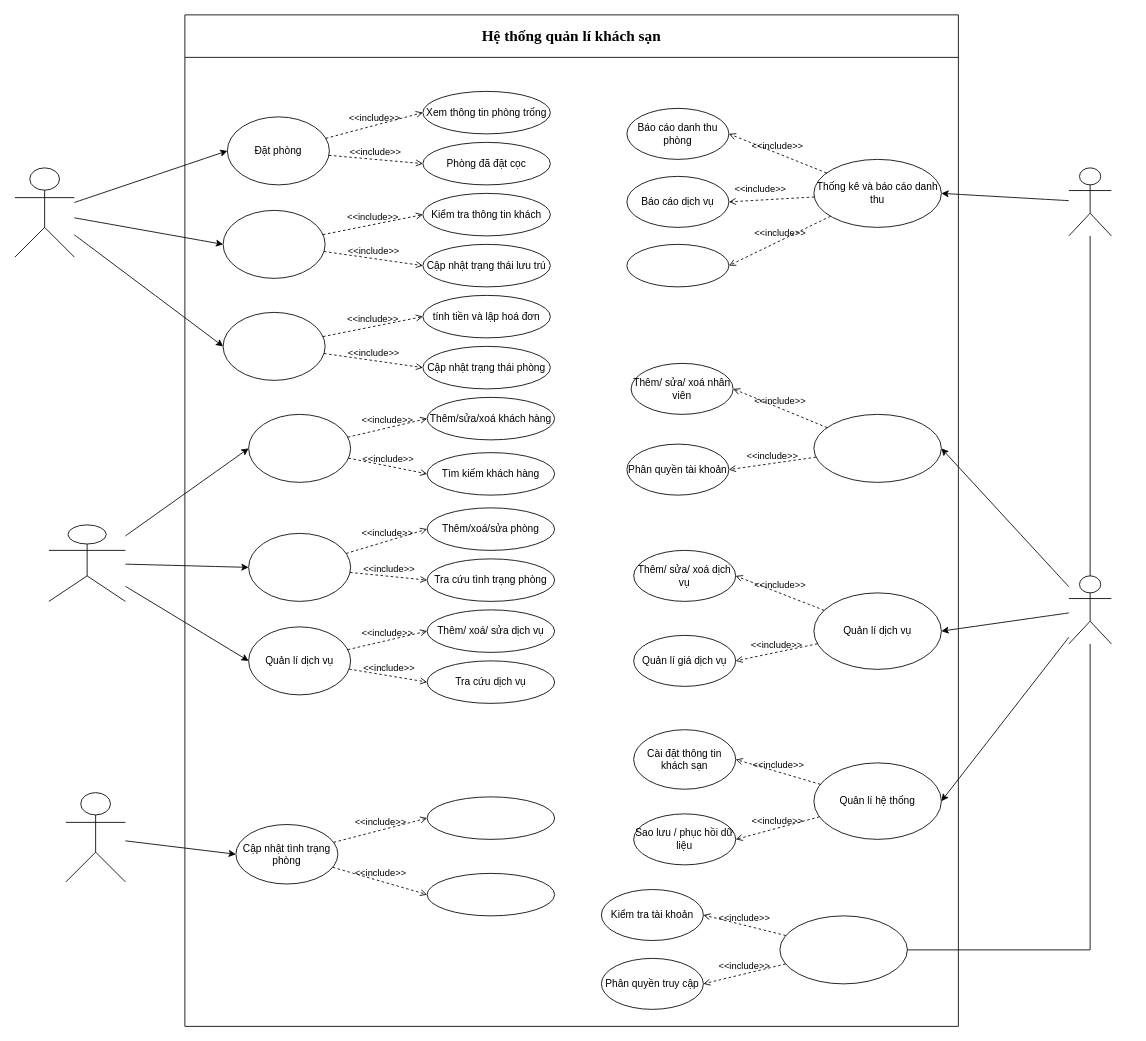
The diagram is 1146 pixels wide and 1041 high, and some of its shapes have lost their labels. The shapes that lost their labels are listed below. From the top down, each one's centre as x and y in pixels, then its label:
At point 44,212: "Khách hàng".
At point 1089,201: "Quản lí khách sạn".
At point 273,244: "Nhận phòng (check-in)".
At point 677,265: "Xuất báo cáo".
At point 273,346: "Trả phòng (check-out)".
At point 299,448: "Quản lí khách hàng".
At point 877,448: "Quản lí nhân viên".
At point 86,562: "Nhân viên lễ tân".
At point 299,567: "Quản lí phòng".
At point 1089,609: "Nhân viên quản lí".
At point 95,837: "Nhân viên buồng phòng".
At point 490,817: "Đánh dấu đã dọn dẹp".
At point 490,894: "Báo cáo sự cố".
At point 843,949: "Đăng nhập hệ thống".
